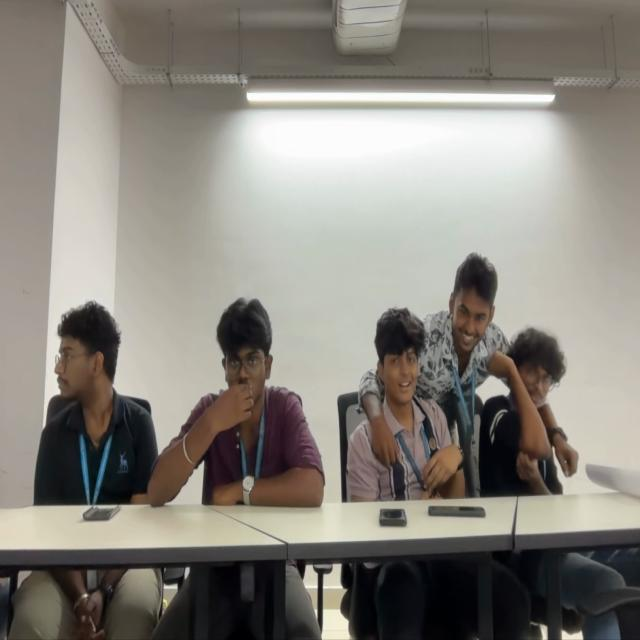Isolated: (166, 293, 322, 499), (35, 296, 146, 509)
socializing: (346, 250, 579, 497)
